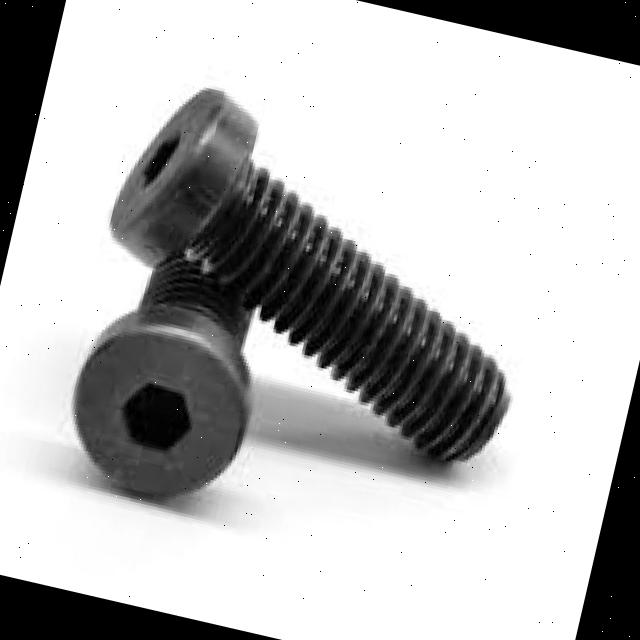Hex Socket Allen: (55, 307, 264, 508)
